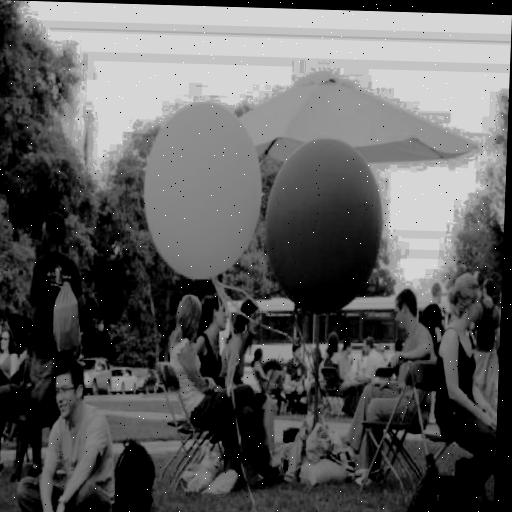balloon: (261, 131, 389, 332), (143, 92, 265, 282)
